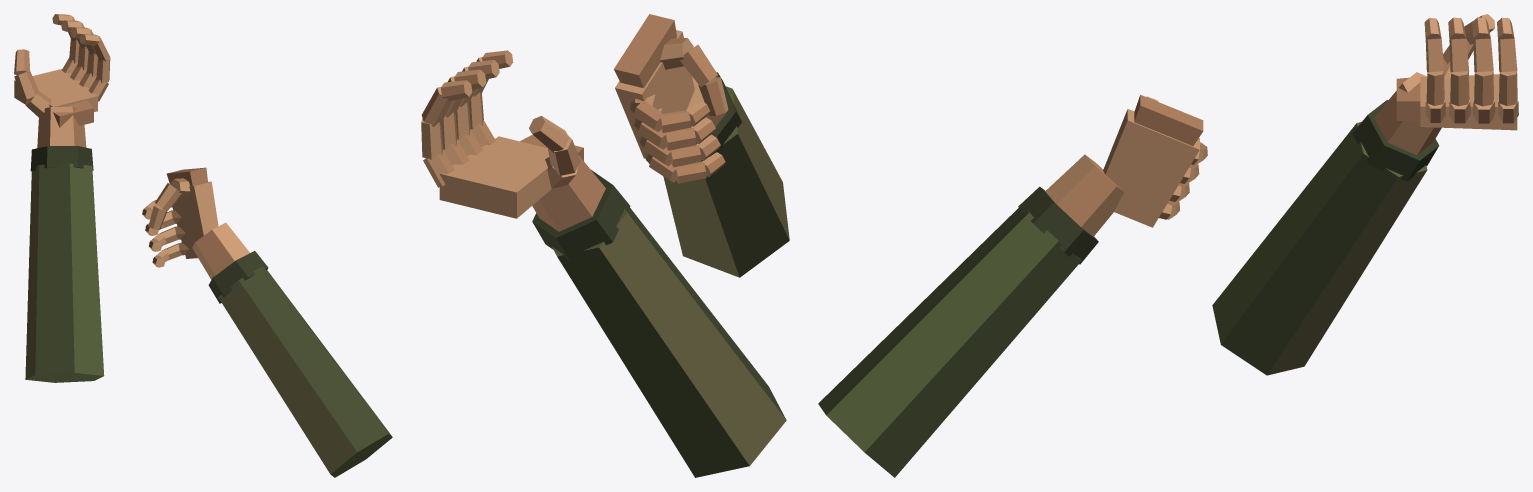
The model's file is maos_wf_m249.glb.
The picture shows the model from 3 angles, left to right: view 1: azimuth 30°, elevation 25°; view 2: azimuth 150°, elevation 25°; view 3: azimuth 270°, elevation 25°; orthographic projection. The views are drawn at different scales.
Parts seen in each view (by area): view 1: MaoE, MaoD; view 2: MaoE, MaoD; view 3: MaoD, MaoE.
Boxes of the visible parts, left/top/right/bottom form: MaoE: left=14, top=14, right=110, bottom=382; MaoD: left=142, top=167, right=392, bottom=477; MaoE: left=421, top=50, right=786, bottom=477; MaoD: left=614, top=14, right=789, bottom=277; MaoD: left=818, top=95, right=1207, bottom=477; MaoE: left=1212, top=14, right=1518, bottom=375.
Bounding box in the file's own units: 0.3394 × 0.4651 × 0.7087.
